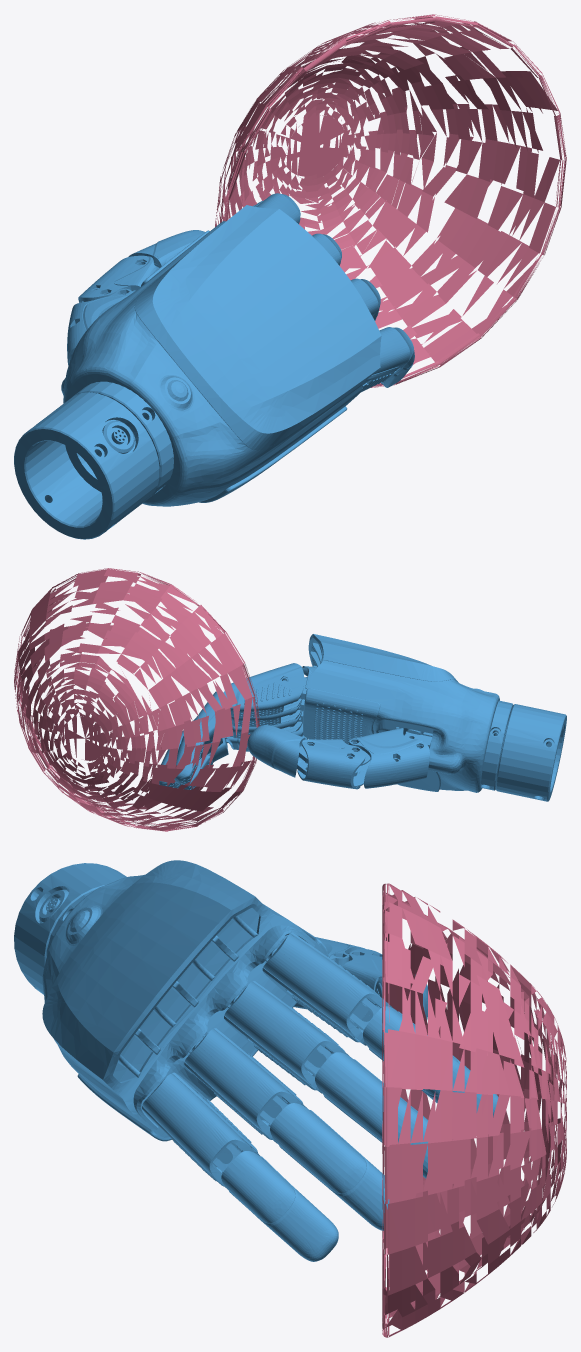
3 views of the same model, one above another, from view 1: azimuth 30°, elevation 25°; view 2: azimuth 150°, elevation 25°; view 3: azimuth 270°, elevation 25° (orthographic). The views are drawn at different scales.
Parts seen in each view (by area): view 1: 3; view 2: 3; view 3: 3.
Boxes of the visible parts, x1=… form: 3: x1=14, y1=14, x2=566, y2=539; 3: x1=14, y1=568, x2=566, y2=831; 3: x1=14, y1=860, x2=566, y2=1337.
Bounding box in the file's own units: 0.299 × 0.1584 × 0.1917.
